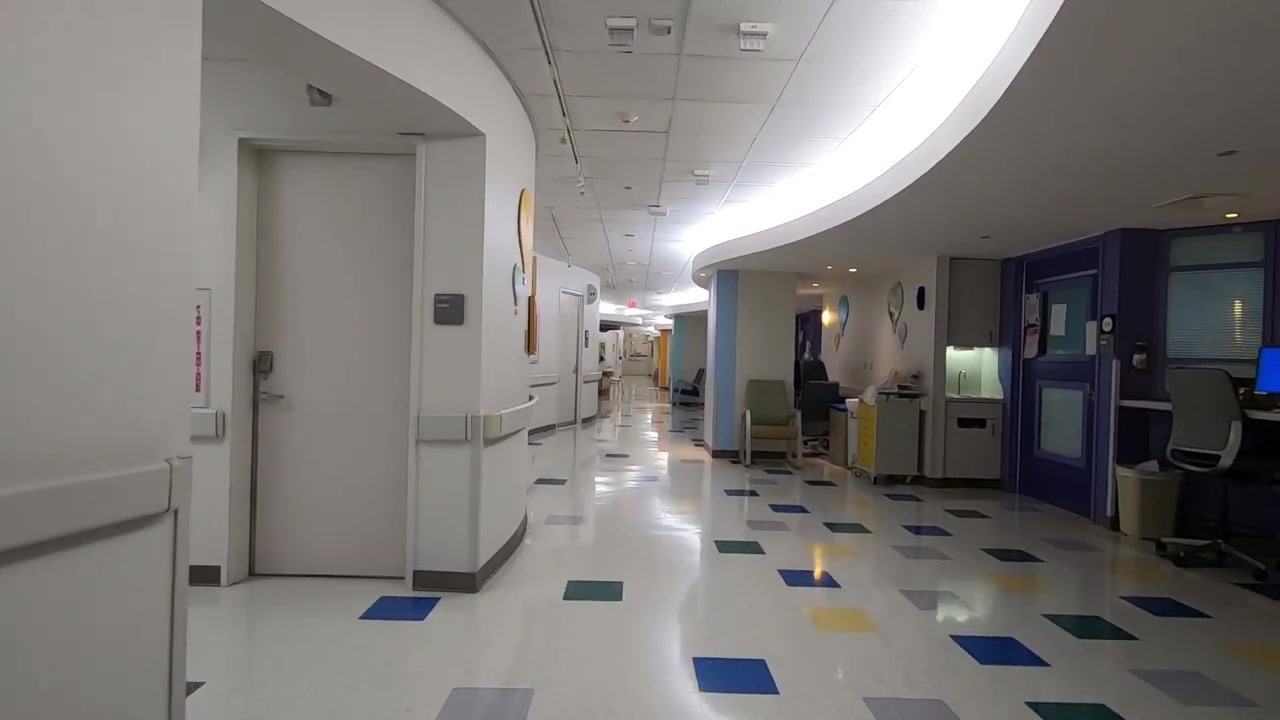cabinet: (946, 257, 1004, 350)
chair: (1158, 360, 1280, 576), (739, 380, 804, 469), (797, 380, 844, 452), (673, 366, 704, 408), (797, 360, 829, 380)
computer: (1249, 346, 1280, 394)
countertop: (1113, 401, 1280, 422)
door_handle: (258, 392, 287, 404), (1084, 377, 1098, 400)
faucet: (958, 369, 966, 395)
handle: (990, 423, 996, 436), (988, 331, 994, 344)
push_latch: (1, 454, 194, 563), (484, 390, 540, 444)
utility_cart: (854, 392, 924, 484)
waste_bin: (1115, 461, 1181, 543), (941, 396, 1002, 483), (829, 403, 849, 467)
